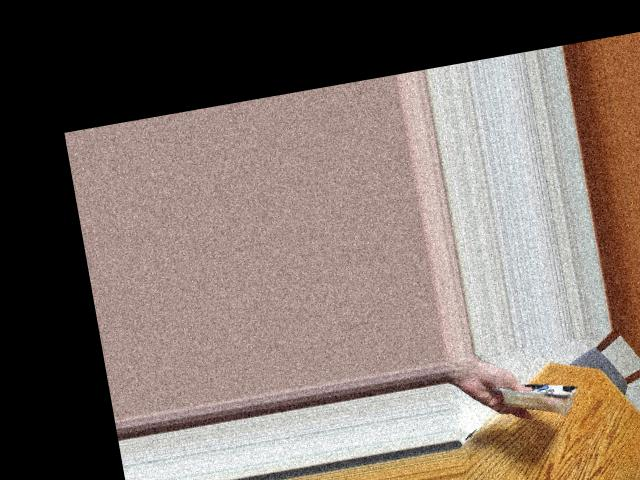cheese: (496, 357, 579, 432)
